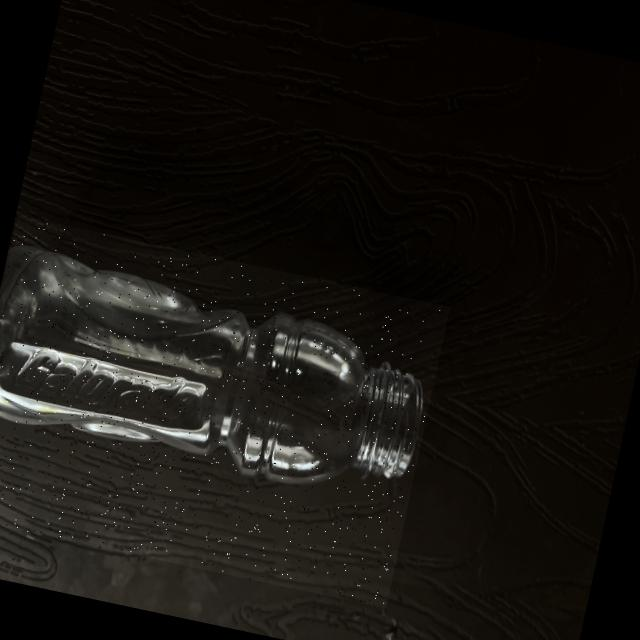PET_ClearBottle: (0, 214, 449, 607)
